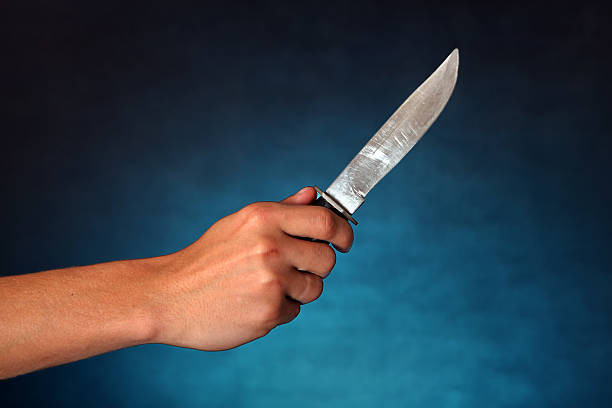knife: (305, 47, 462, 226)
